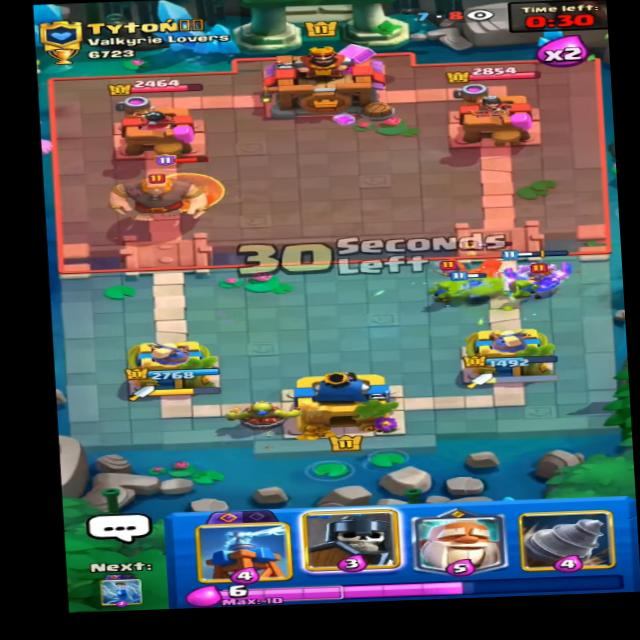evo-wizard: (157, 154, 232, 208)
giant: (104, 169, 214, 222)
night-witch: (464, 237, 510, 283)
